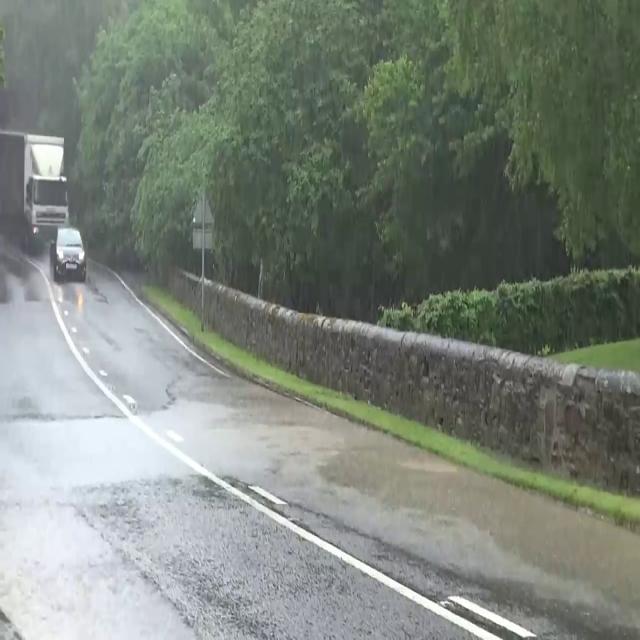license-plate-annotation: (66, 260, 82, 278)
